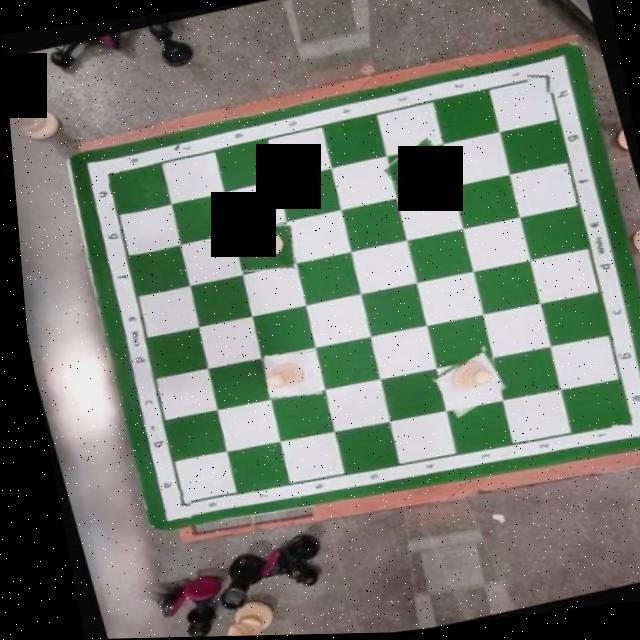chess-table-corners: (523, 62, 562, 96), (602, 410, 638, 438), (92, 160, 121, 192), (162, 486, 186, 517)
